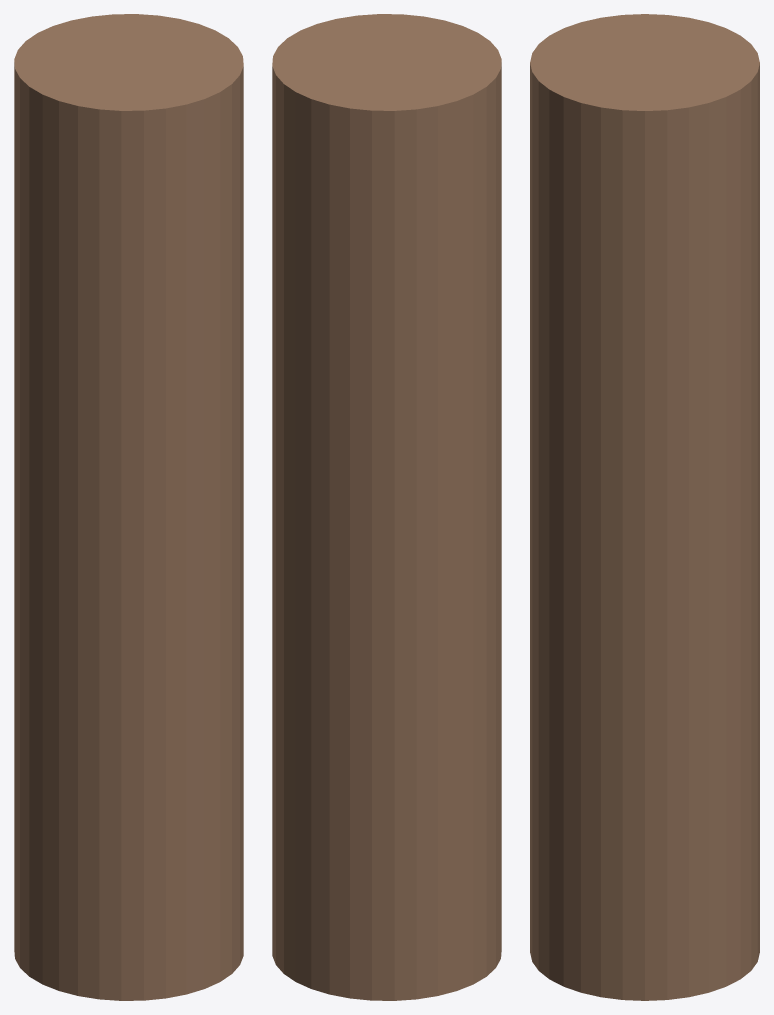
Rendered from Pillar.fbx.
3 renders of one model, left to right at view 1: azimuth 30°, elevation 25°; view 2: azimuth 150°, elevation 25°; view 3: azimuth 270°, elevation 25°, orthographic.
Visible parts, largest first — view 1: Pillar; view 2: Pillar; view 3: Pillar.
Part boxes in pixels (box(x1,y1,x2,y2)): Pillar: box(14, 14, 243, 1000); Pillar: box(272, 14, 501, 1000); Pillar: box(530, 14, 759, 1000).
Bounding box in the file's own units: 746 × 3188 × 746.
